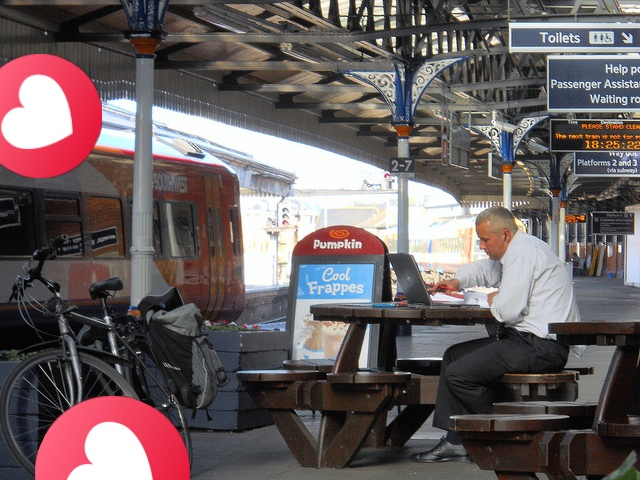love: (35, 396, 190, 480), (0, 54, 102, 178)
